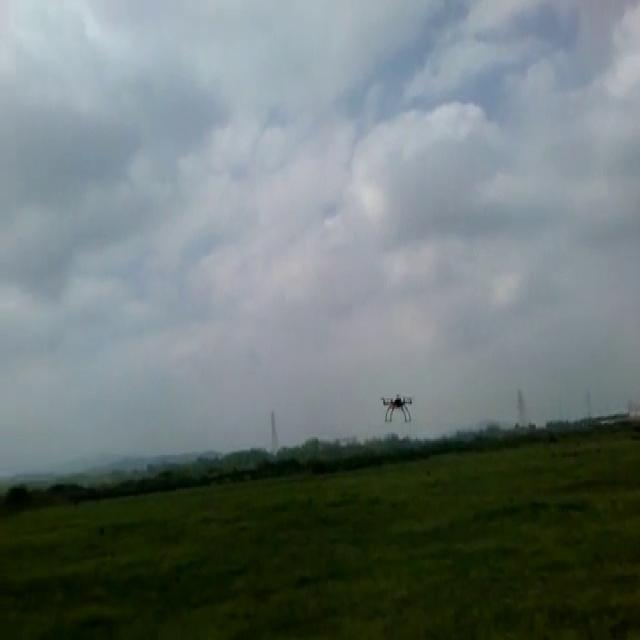drone: (378, 387, 416, 425)
